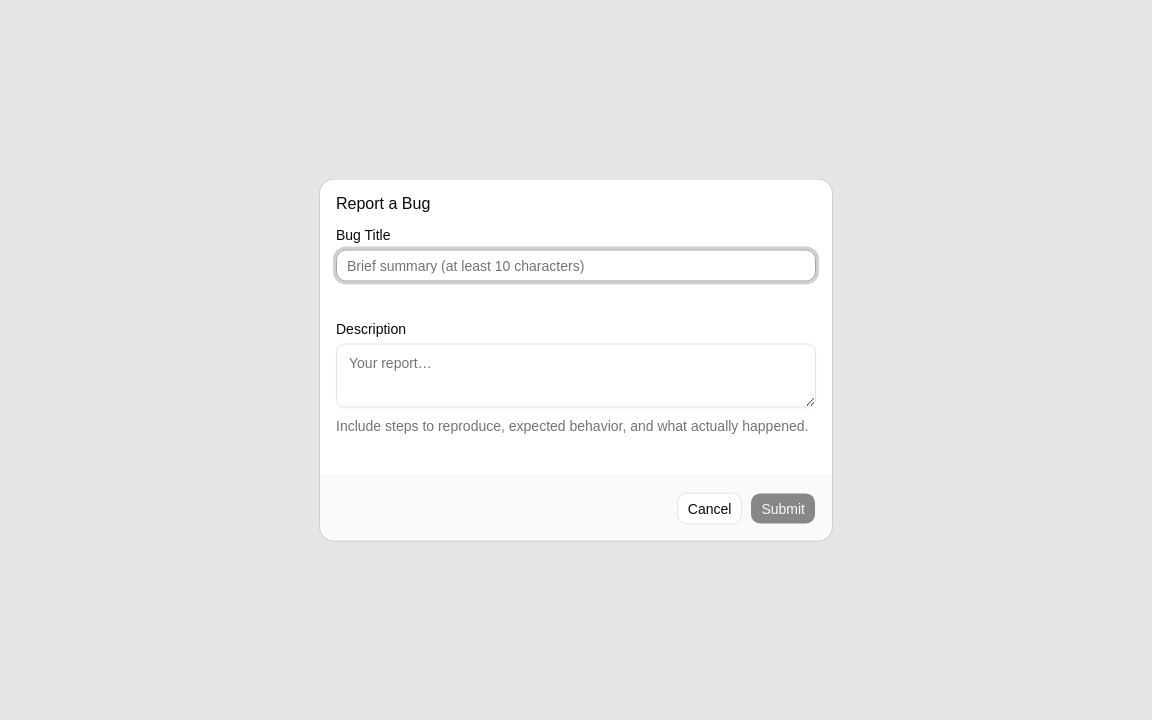
Test: BugReportDialog › shows title error only after the title field is blurred with a short value
Type "Short" into the field labelled "Bug Title".
click(576, 266); type("Short")  # box [336, 250, 816, 282]
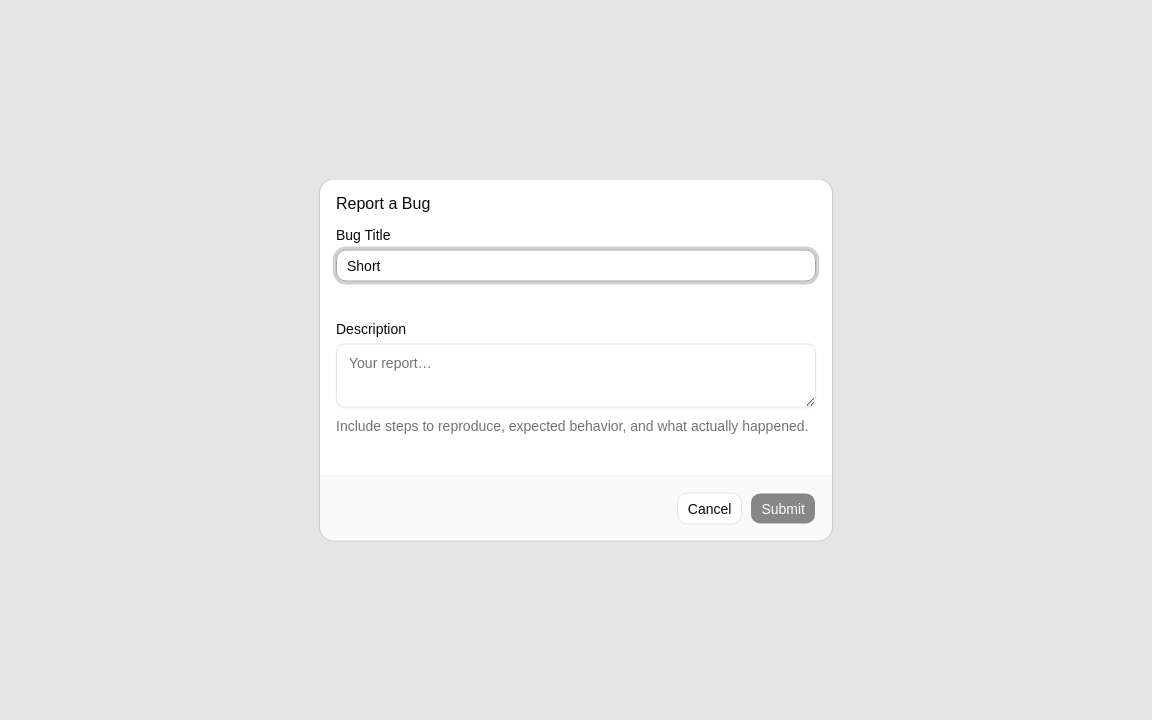
Press Tab
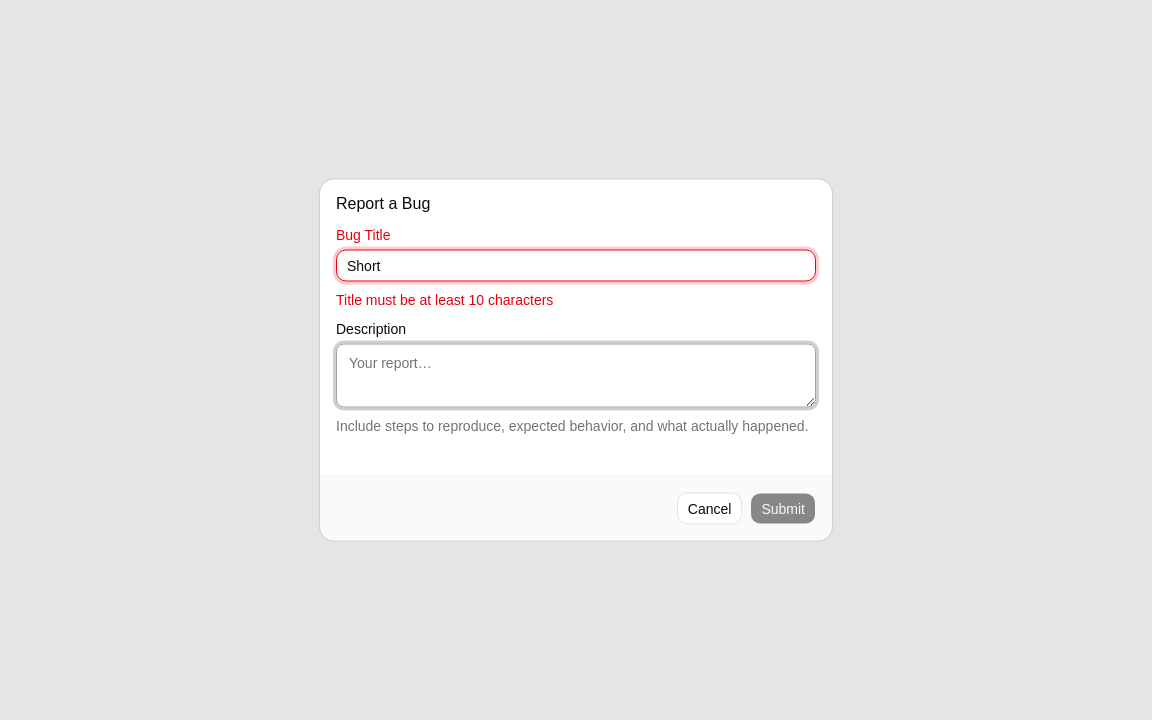
Expected: the text "Title must be at least 10 characters" is shown, [336, 292, 553, 308]
